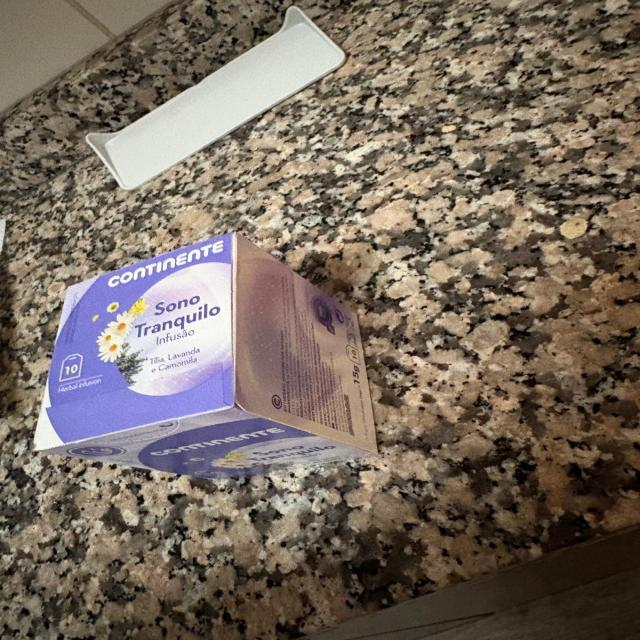good_package: (34, 230, 382, 481)
